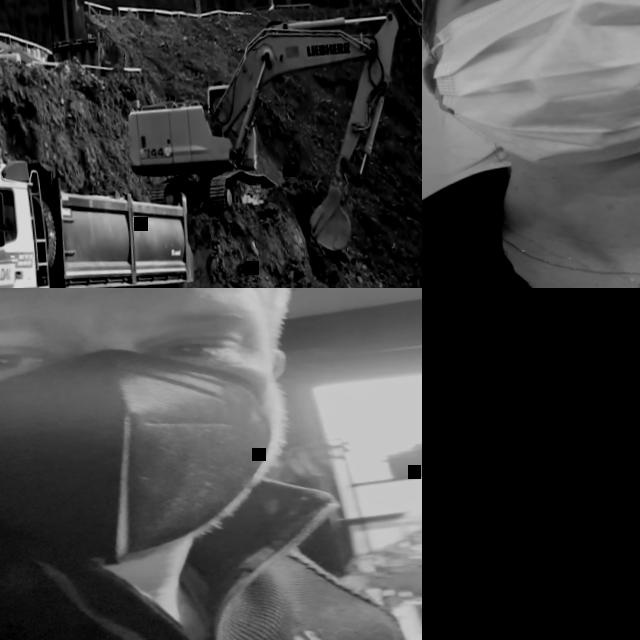Mask: (0, 334, 281, 576), (422, 0, 640, 175)
NO-Safety Vest: (0, 521, 407, 640), (422, 146, 640, 288)
Person: (0, 288, 421, 640), (422, 0, 640, 288), (0, 203, 9, 238)
machinery: (114, 3, 416, 271), (0, 148, 203, 288)
